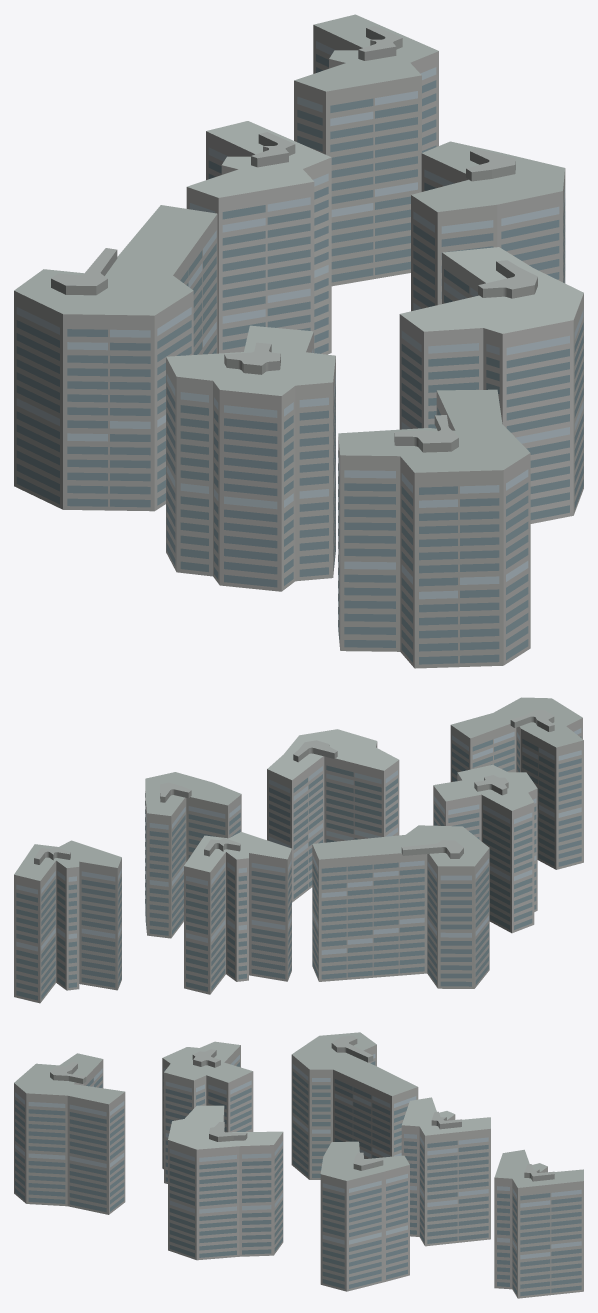
File: apt-a13670801.glb
The picture shows the model from 3 angles, top to bottom: view 1: azimuth 30°, elevation 25°; view 2: azimuth 150°, elevation 25°; view 3: azimuth 270°, elevation 25°; orthographic projection. The views are drawn at different scales.
Parts seen in each view (by area): view 1: apt-a13670801; view 2: apt-a13670801; view 3: apt-a13670801.
Part boxes in pixels (x1=…): apt-a13670801: x1=14, y1=14, x2=583, y2=668; apt-a13670801: x1=14, y1=697, x2=583, y2=1003; apt-a13670801: x1=14, y1=1032, x2=583, y2=1298.
Bounding box in the file's own units: 127 × 44 × 196.
